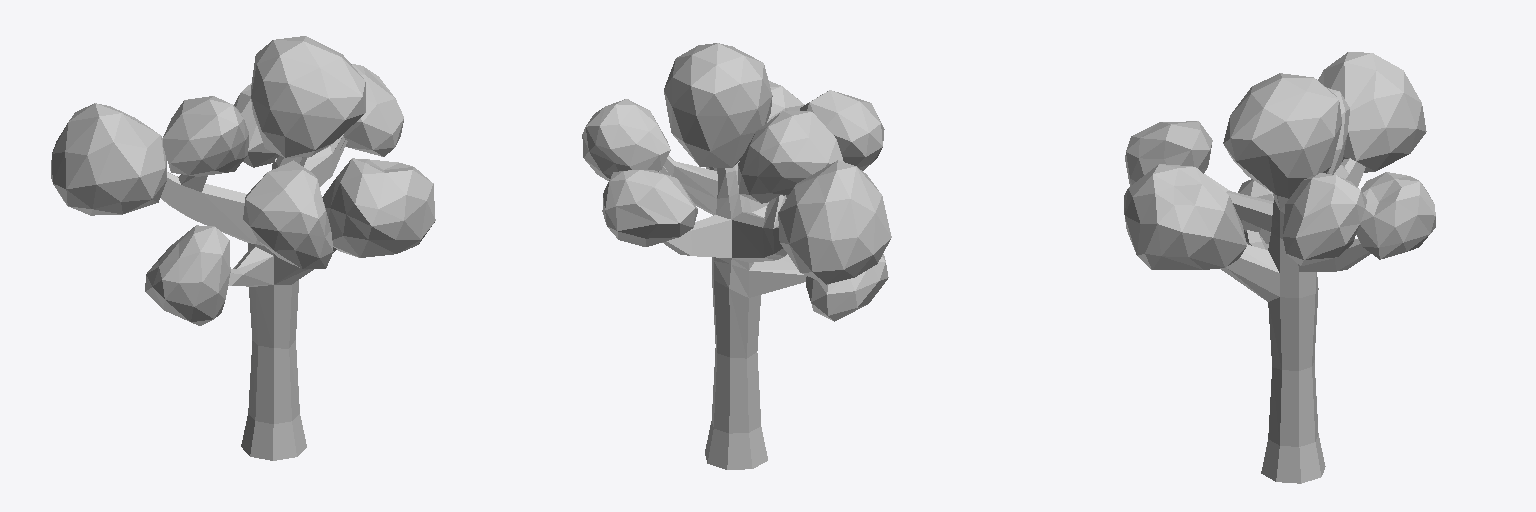
Rendered from tree downloaded_semileaves.obj.
The picture shows the model from 3 angles: view 1: azimuth 30°, elevation 25°; view 2: azimuth 150°, elevation 25°; view 3: azimuth 270°, elevation 25°; orthographic projection.
Visible parts, largest first — view 1: Arbre_Normal; view 2: Arbre_Normal; view 3: Arbre_Normal.
Boxes of the visible parts, box(x1,y1,x2,y2) form: Arbre_Normal: box(51, 36, 435, 460); Arbre_Normal: box(582, 43, 891, 469); Arbre_Normal: box(1124, 52, 1435, 483).
Size of the model in its own units: 3.18 by 3.92 by 2.75.